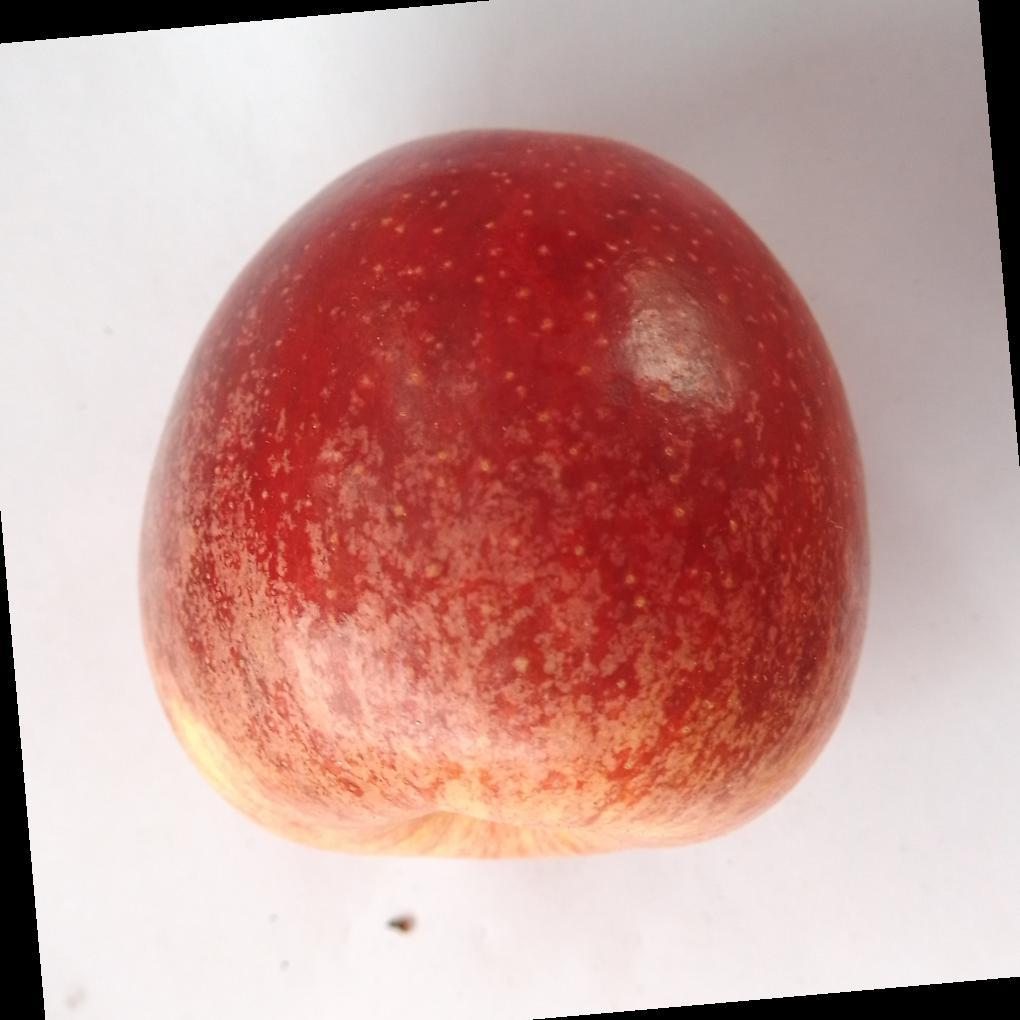FreshGuava: (135, 130, 874, 866)
